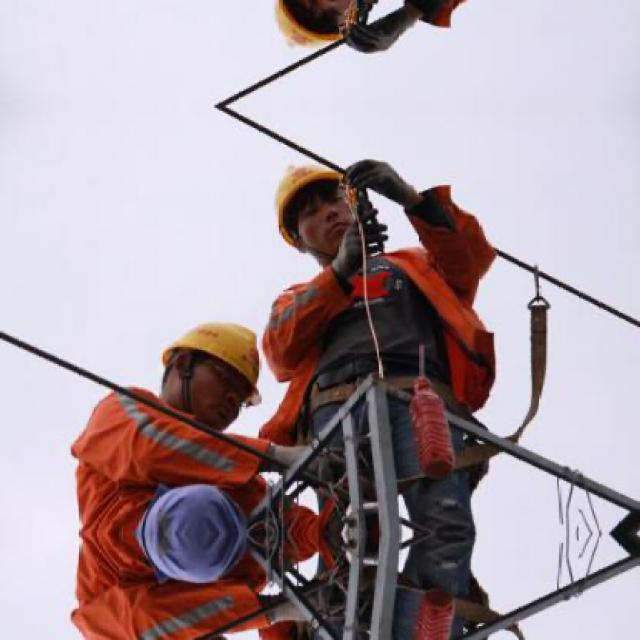helmet: (150, 306, 276, 428), (262, 151, 371, 273), (262, 0, 372, 63)
